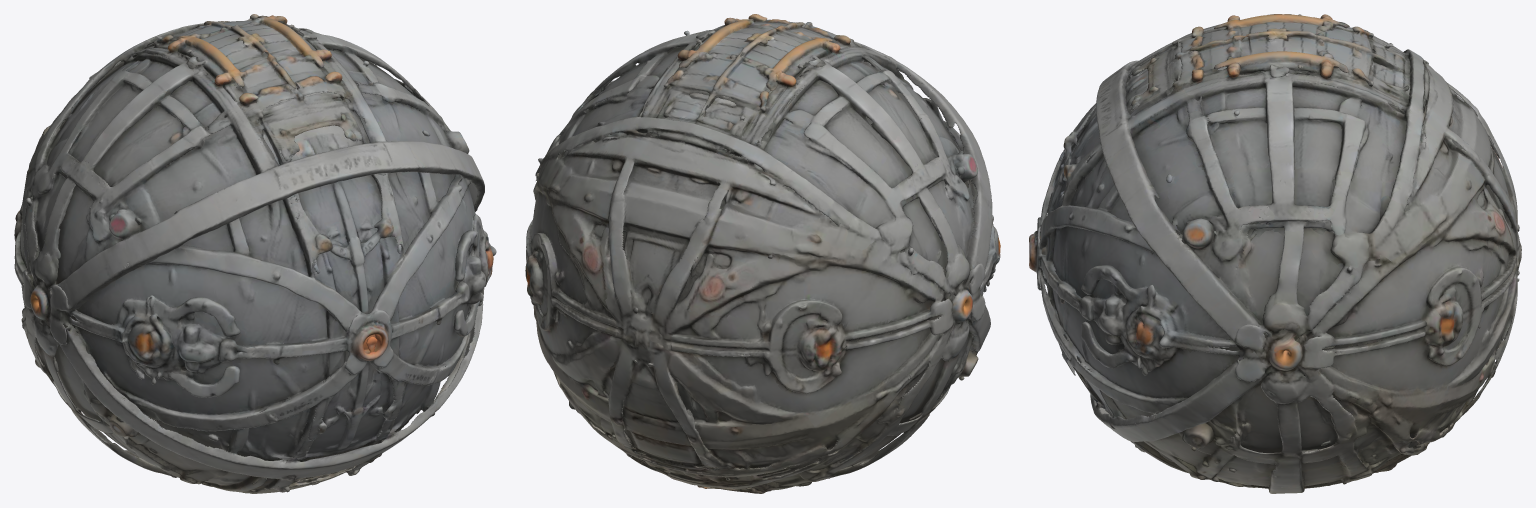
The model's file is detailed_realistic_model_default_03.glb.
The picture shows the model from 3 angles, left to right: view 1: azimuth 30°, elevation 25°; view 2: azimuth 150°, elevation 25°; view 3: azimuth 270°, elevation 25°; orthographic projection.
Parts seen in each view (by area): view 1: tripo_node_fd4f2819-d281-44e8-bd45-41a8987b87c6; view 2: tripo_node_fd4f2819-d281-44e8-bd45-41a8987b87c6; view 3: tripo_node_fd4f2819-d281-44e8-bd45-41a8987b87c6.
Part boxes in pixels (<box>): tripo_node_fd4f2819-d281-44e8-bd45-41a8987b87c6: <box>14,14,496,493</box>; tripo_node_fd4f2819-d281-44e8-bd45-41a8987b87c6: <box>525,14,1000,493</box>; tripo_node_fd4f2819-d281-44e8-bd45-41a8987b87c6: <box>1029,14,1521,493</box>.
Bounding box in the file's own units: 1 × 0.9712 × 0.9941.
Materials: 1 (1 with a texture image).
